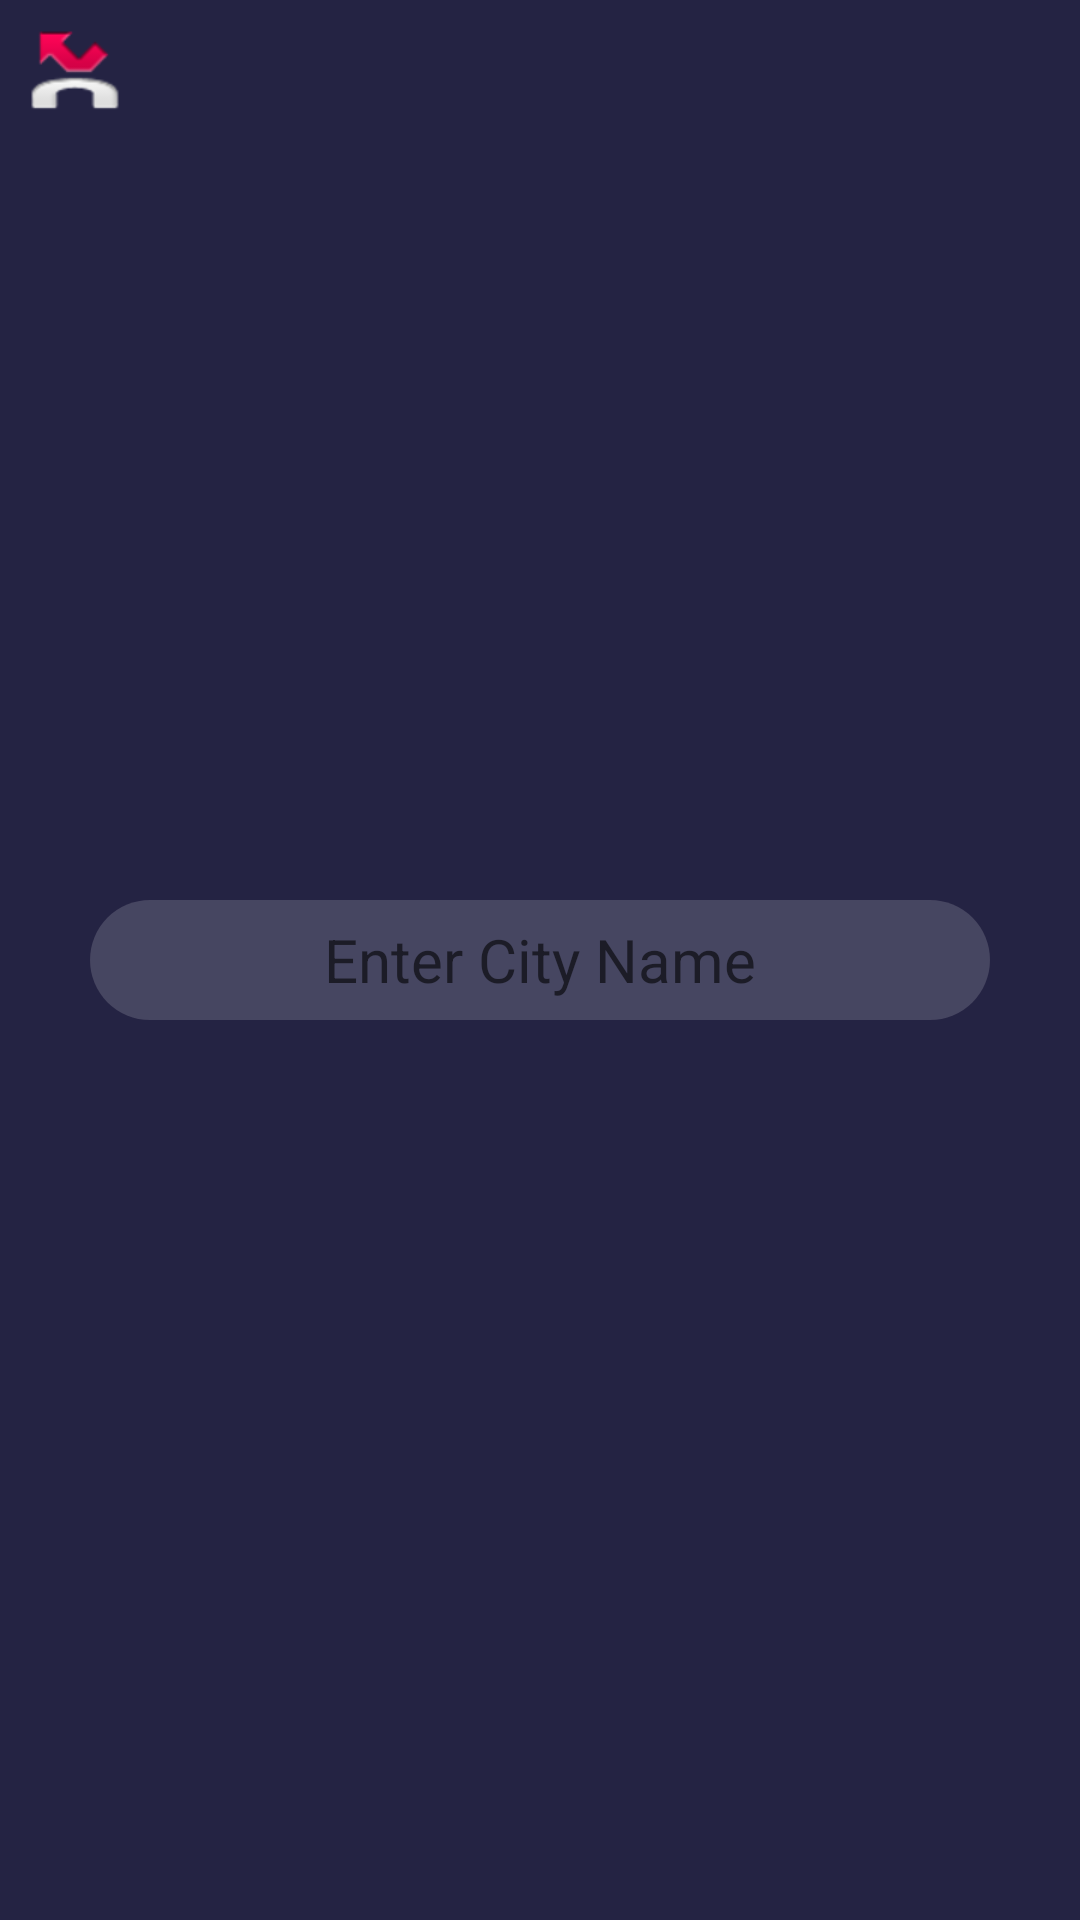

Named icons in this screenshot (1080w x 1920h) and their bounding boxes, (x1, y1, x2, y2):
sym call missed: (31, 31, 119, 109)
